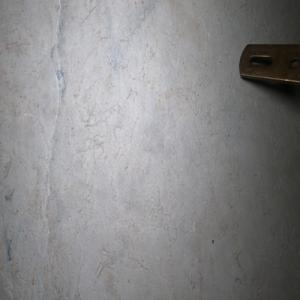MetalPart: (238, 42, 300, 93)
